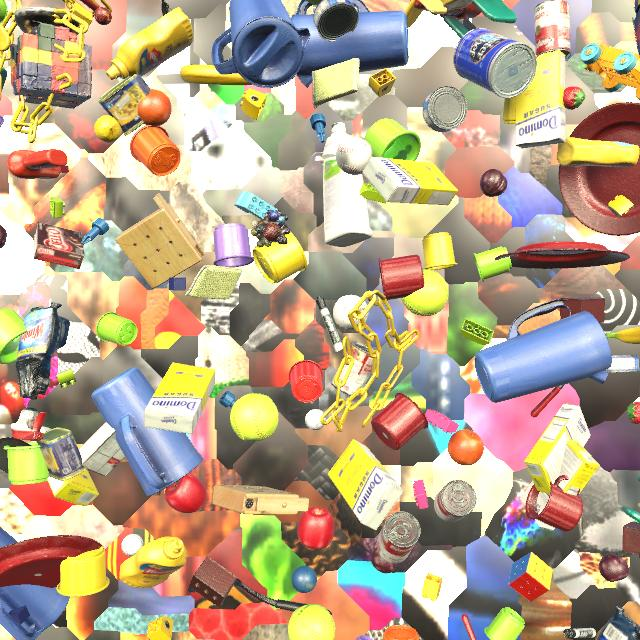ycb_002_master_chef_can: (453, 28, 537, 98)
ycb_004_sugar_box: (520, 440, 600, 531), (328, 439, 404, 530), (524, 403, 591, 494), (31, 426, 99, 506), (144, 363, 216, 434), (515, 50, 565, 148), (363, 157, 458, 205)
ycb_005_tomato_soup_can: (331, 341, 380, 397), (377, 511, 421, 564), (534, 0, 571, 59), (434, 480, 477, 522)
ycb_006_mustard_bottle: (106, 7, 193, 80), (120, 537, 187, 588), (556, 137, 640, 167), (443, 0, 473, 10)
ycb_007_tuna_fish_can: (422, 86, 468, 132), (313, 0, 359, 42), (603, 355, 640, 373)
ycb_008_pudding_box: (79, 422, 125, 476), (34, 222, 84, 269)
ycb_010_potted_meat_can: (99, 74, 150, 136), (36, 427, 88, 481)
ycb_011_banana: (180, 65, 252, 86), (605, 327, 640, 344)
ycb_012_strawberry: (563, 86, 585, 110), (627, 402, 640, 424)
ycb_013_apple: (165, 473, 207, 513), (297, 507, 335, 549)
ycb_014_lemon: (94, 115, 122, 143)
ycb_017_orange: (448, 429, 484, 466), (137, 89, 172, 127)
ycb_018_plum: (599, 554, 629, 582), (480, 169, 507, 197), (370, 547, 397, 573), (0, 225, 7, 248)
